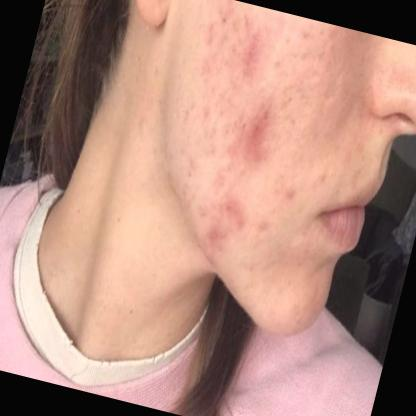Acne: (278, 179, 300, 209)
